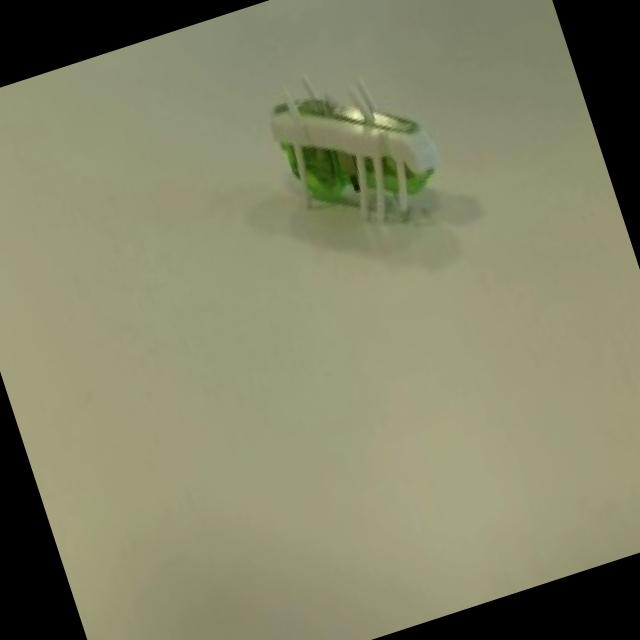4_NanoBug_Blanco: (229, 14, 487, 294)
